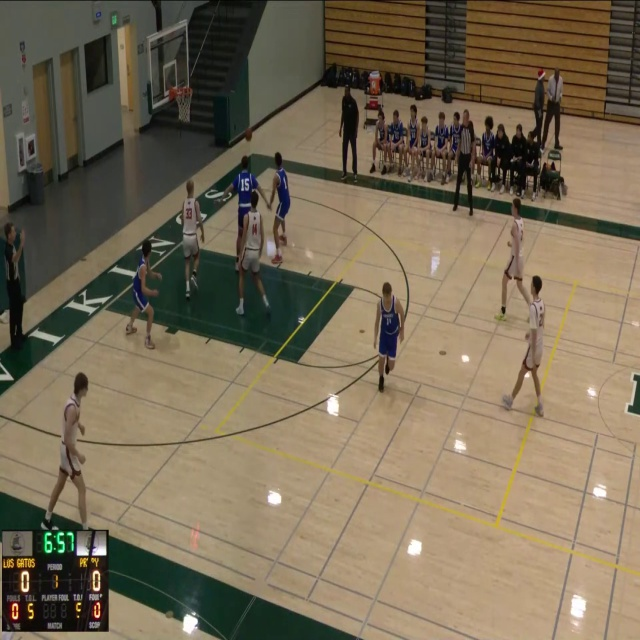Basketball: (244, 128, 252, 141)
